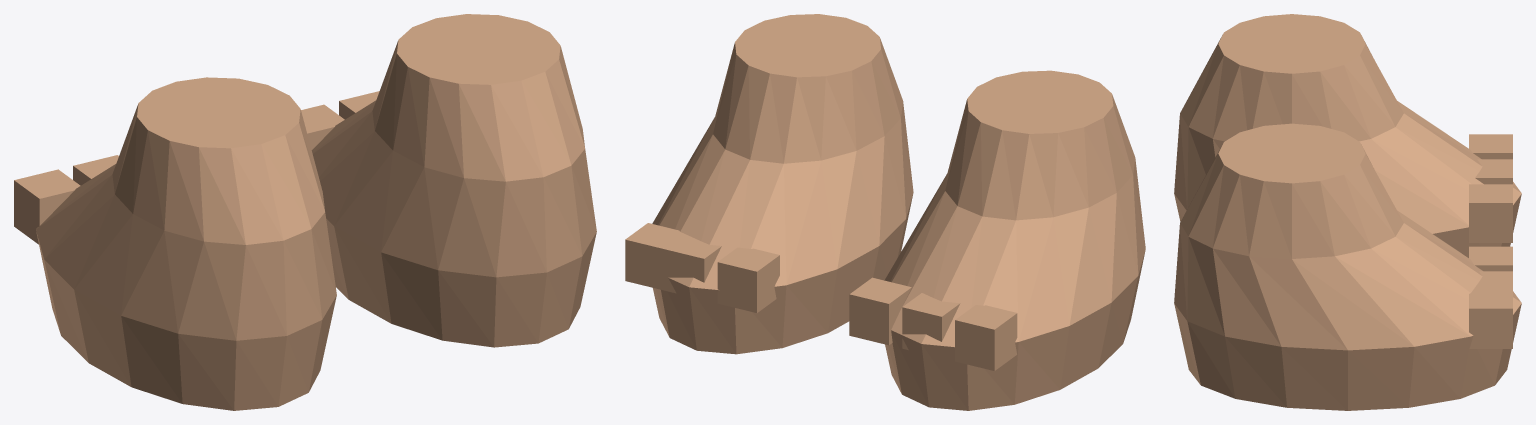
The model's file is visual-far.glb.
The picture shows the model from 3 angles, left to right: view 1: azimuth 30°, elevation 25°; view 2: azimuth 150°, elevation 25°; view 3: azimuth 270°, elevation 25°; orthographic projection. The views are drawn at different scales.
Visible parts, largest first — view 1: 现有婴幼儿合并脚块; view 2: 现有婴幼儿合并脚块; view 3: 现有婴幼儿合并脚块.
Part boxes in pixels (x1=…): 现有婴幼儿合并脚块: x1=14, y1=14, x2=596, y2=410; 现有婴幼儿合并脚块: x1=625, y1=14, x2=1145, y2=410; 现有婴幼儿合并脚块: x1=1174, y1=14, x2=1521, y2=410.
Bounding box in the file's own units: 0.164 × 0.081 × 0.118.
1 material, 1 textured.
